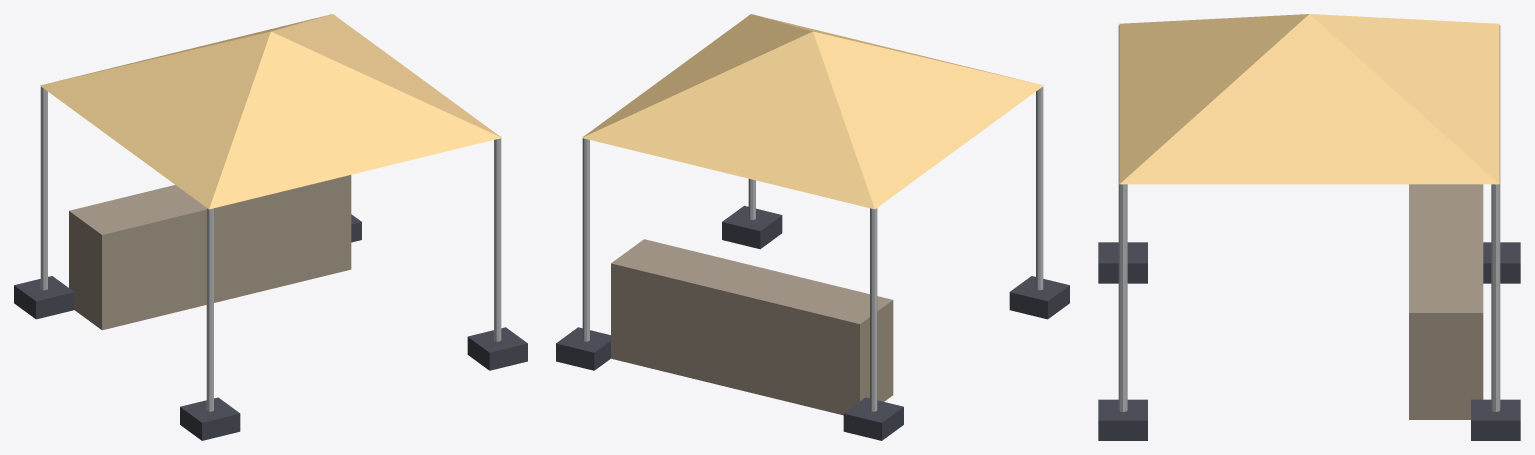
File: SM_Tonnelle_accueil.glb
3 views of the same model, side by side, from view 1: azimuth 30°, elevation 25°; view 2: azimuth 150°, elevation 25°; view 3: azimuth 270°, elevation 25° (orthographic). The views are drawn at different scales.
Parts seen in each view (by area): view 1: SM_Tonnelle_accueil_4, SM_Tonnelle_accueil_5, SM_Tonnelle_accueil_7, SM_Tonnelle_accueil_9, SM_Tonnelle_accueil_6, SM_Tonnelle_accueil_1, SM_Tonnelle_accueil_3, SM_Tonnelle_accueil_0; view 2: SM_Tonnelle_accueil_4, SM_Tonnelle_accueil_5, SM_Tonnelle_accueil_6, SM_Tonnelle_accueil_9, SM_Tonnelle_accueil_7, SM_Tonnelle_accueil_8, SM_Tonnelle_accueil_0, SM_Tonnelle_accueil_2, SM_Tonnelle_accueil_1; view 3: SM_Tonnelle_accueil_4, SM_Tonnelle_accueil_5, SM_Tonnelle_accueil_2, SM_Tonnelle_accueil_3, SM_Tonnelle_accueil_8, SM_Tonnelle_accueil_9, SM_Tonnelle_accueil_7, SM_Tonnelle_accueil_6.
Boxes of the visible parts, x1,y1,x2,y2 form: SM_Tonnelle_accueil_4: (40,14,501,209); SM_Tonnelle_accueil_5: (69,175,351,330); SM_Tonnelle_accueil_7: (180,397,240,440); SM_Tonnelle_accueil_9: (467,327,527,370); SM_Tonnelle_accueil_6: (14,276,74,319); SM_Tonnelle_accueil_1: (206,208,213,411); SM_Tonnelle_accueil_3: (494,136,501,341); SM_Tonnelle_accueil_0: (40,84,47,290); SM_Tonnelle_accueil_4: (582,14,1043,209); SM_Tonnelle_accueil_5: (611,239,893,415); SM_Tonnelle_accueil_6: (843,397,903,440); SM_Tonnelle_accueil_9: (722,205,782,249); SM_Tonnelle_accueil_7: (1009,276,1069,319); SM_Tonnelle_accueil_8: (556,327,610,370); SM_Tonnelle_accueil_0: (870,208,877,411); SM_Tonnelle_accueil_2: (582,136,589,341); SM_Tonnelle_accueil_1: (1036,84,1043,290); SM_Tonnelle_accueil_4: (1119,14,1499,184); SM_Tonnelle_accueil_5: (1409,184,1483,419); SM_Tonnelle_accueil_2: (1491,182,1500,411); SM_Tonnelle_accueil_3: (1118,182,1127,411); SM_Tonnelle_accueil_8: (1471,399,1520,440); SM_Tonnelle_accueil_9: (1098,399,1147,440); SM_Tonnelle_accueil_7: (1098,242,1147,283); SM_Tonnelle_accueil_6: (1483,242,1520,283).
Bounding box in the file's own units: 3.4 × 3 × 3.4.
